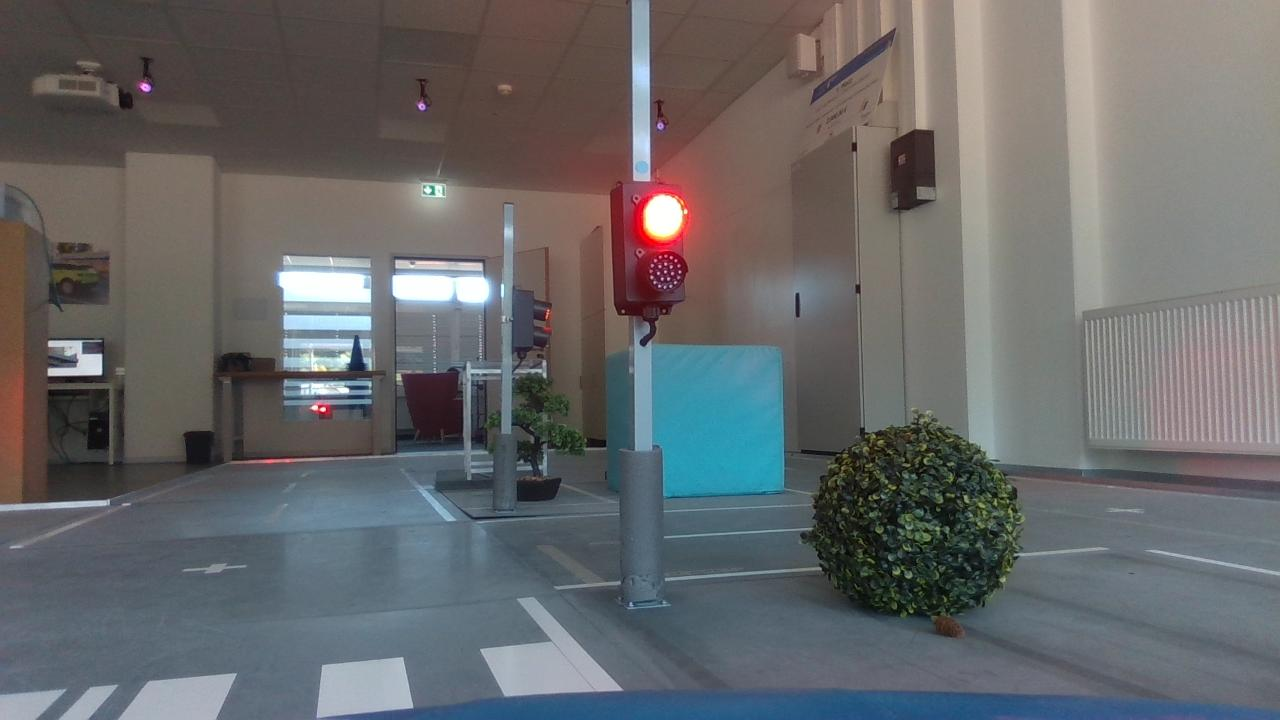traffic_light_red: (592, 168, 702, 327)
